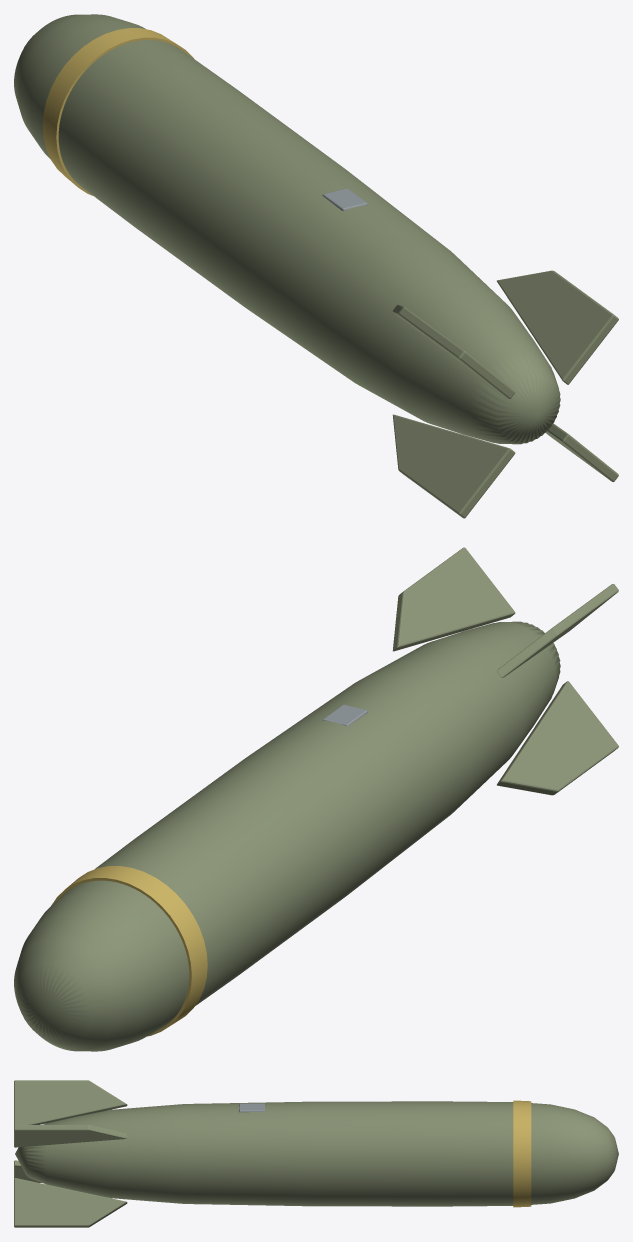
File: cbu97.glb
3 views of the same model, one above another, from view 1: azimuth 30°, elevation 25°; view 2: azimuth 150°, elevation 25°; view 3: azimuth 270°, elevation 25° (orthographic). The views are drawn at different scales.
Parts seen in each view (by area): view 1: static.Store olive, static.Store band ochre; view 2: static.Store olive, static.Store band ochre; view 3: static.Store olive, static.Store band ochre, static.Dull metal.
Boxes of the visible parts, left/top/right/bottom form: static.Store olive: left=14, top=14, right=618, bottom=518; static.Store band ochre: left=42, top=28, right=193, bottom=195; static.Store olive: left=14, top=547, right=618, bottom=1051; static.Store band ochre: left=51, top=866, right=207, bottom=1036; static.Store olive: left=14, top=1080, right=618, bottom=1227; static.Store band ochre: left=513, top=1100, right=531, bottom=1207; static.Dull metal: left=239, top=1103, right=264, bottom=1112.
Size of the model in its own units: 0.4379 by 0.4379 by 2.34.
